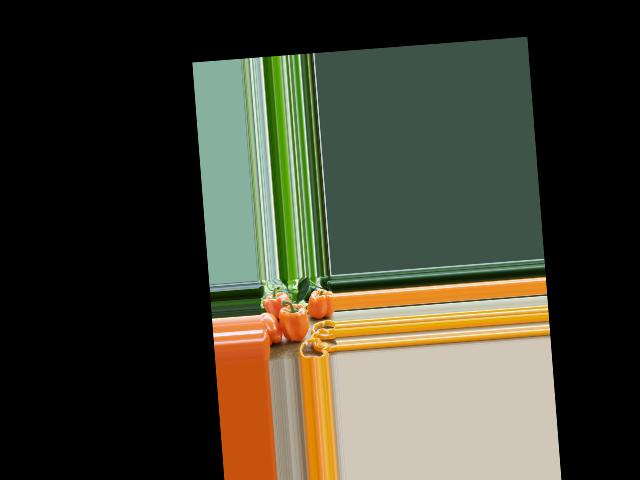bell_pepper: (260, 310, 282, 346)
